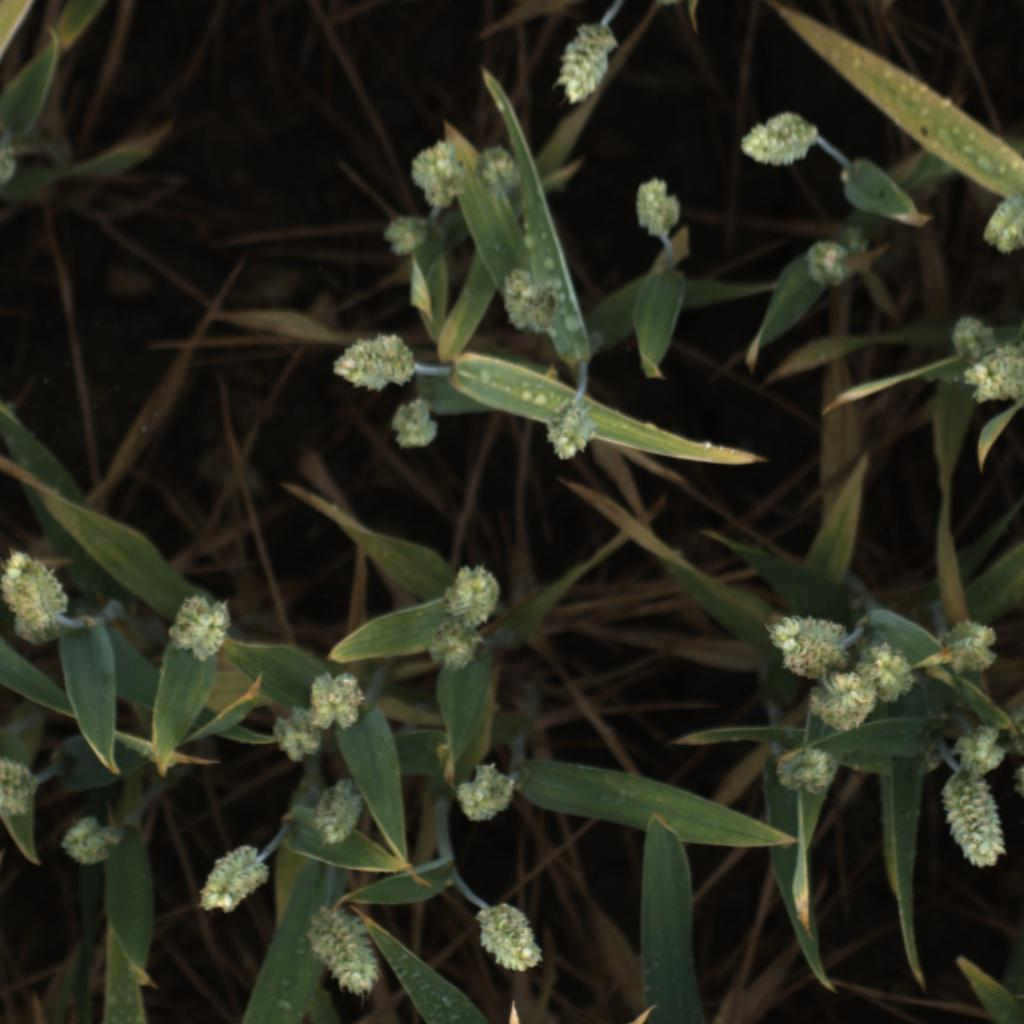0-0: (302, 904, 387, 1001), (934, 768, 1010, 870), (760, 605, 854, 678), (0, 548, 76, 635), (551, 18, 622, 110), (328, 327, 421, 394), (193, 837, 268, 919), (470, 898, 548, 976), (736, 103, 820, 173), (162, 591, 234, 667), (498, 263, 565, 339), (405, 134, 469, 213), (624, 171, 690, 246), (440, 552, 501, 631), (802, 672, 881, 733), (535, 395, 602, 465), (938, 304, 1009, 370), (451, 759, 520, 826), (305, 665, 371, 735), (961, 338, 1024, 408), (769, 742, 845, 799), (59, 808, 125, 871), (852, 643, 923, 701), (315, 772, 368, 848), (793, 231, 855, 295), (946, 715, 1009, 777), (266, 703, 327, 767), (976, 179, 1024, 258), (472, 139, 529, 201), (940, 617, 1001, 672), (425, 624, 486, 677), (389, 396, 444, 454), (380, 210, 432, 259), (0, 749, 34, 821)
